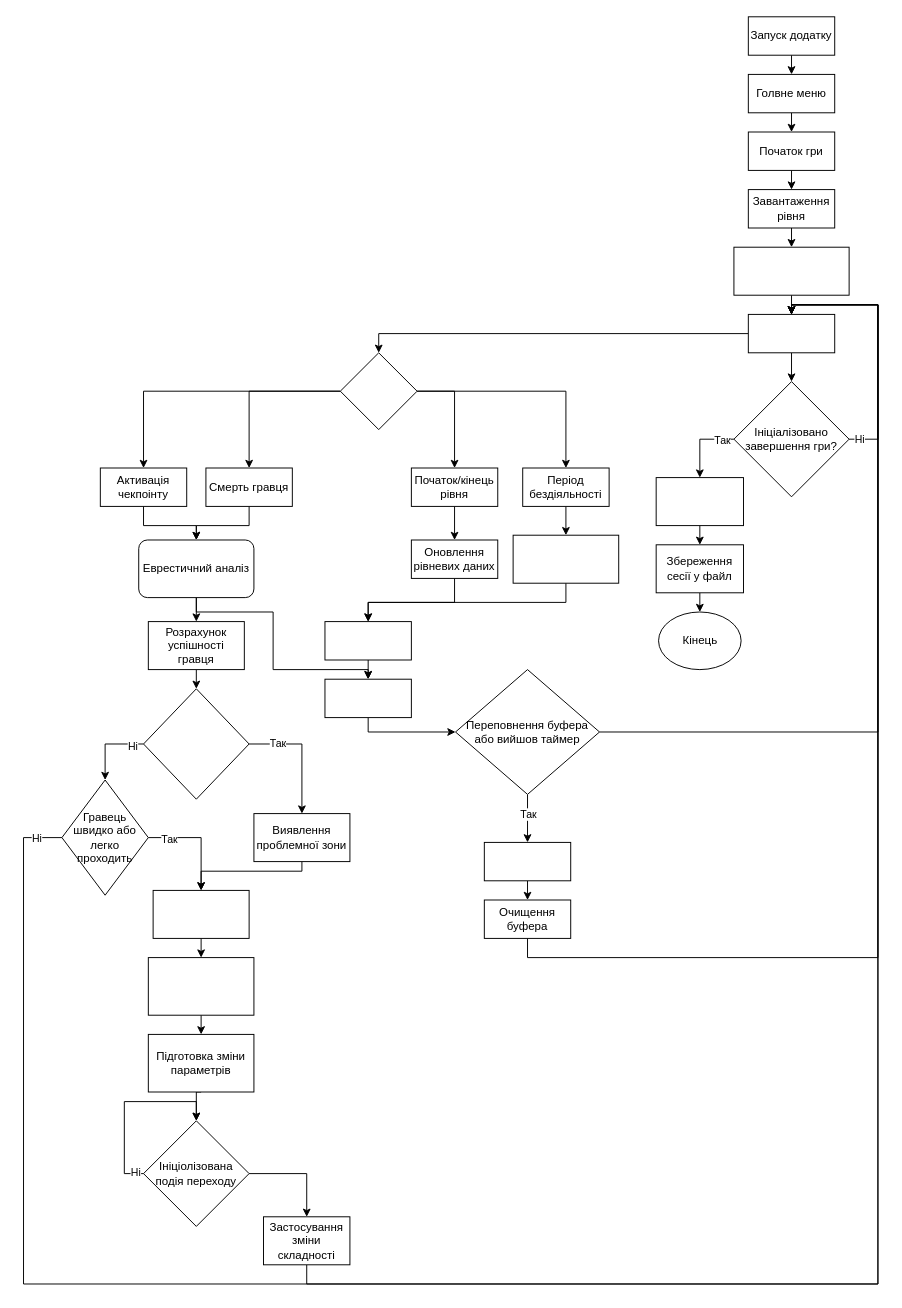
Some shapes in this 902 by 1308 pixel diagram are drawn without their labels. The centre of each missing label's shape, as x and y in pixels:
Вибір перешкод в певному радіусі: the point at 200,986
Визначення коефіцінта складності: the point at 200,913
Додавання у буфер подій: the point at 367,698
Запис у файл: the point at 527,861
Збільшення параметра полегшення: the point at 565,558
Моніторинг ігрових подій: the point at 791,333
Перевищення порогу смертей: the point at 196,743
Примусове завершення всіх подій: the point at 699,501
Створення AnalyticsEvent: the point at 367,640
Тип події: the point at 378,391
Ініціалізація AnalyticsManager + GameSession: the point at 791,270
